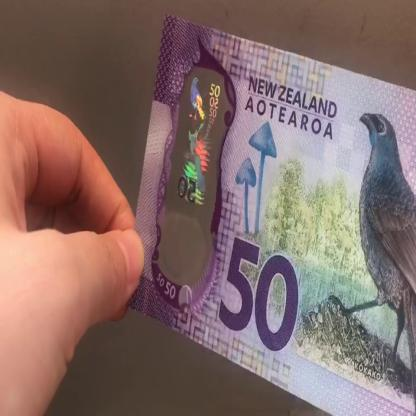50B: (170, 72, 222, 284)
